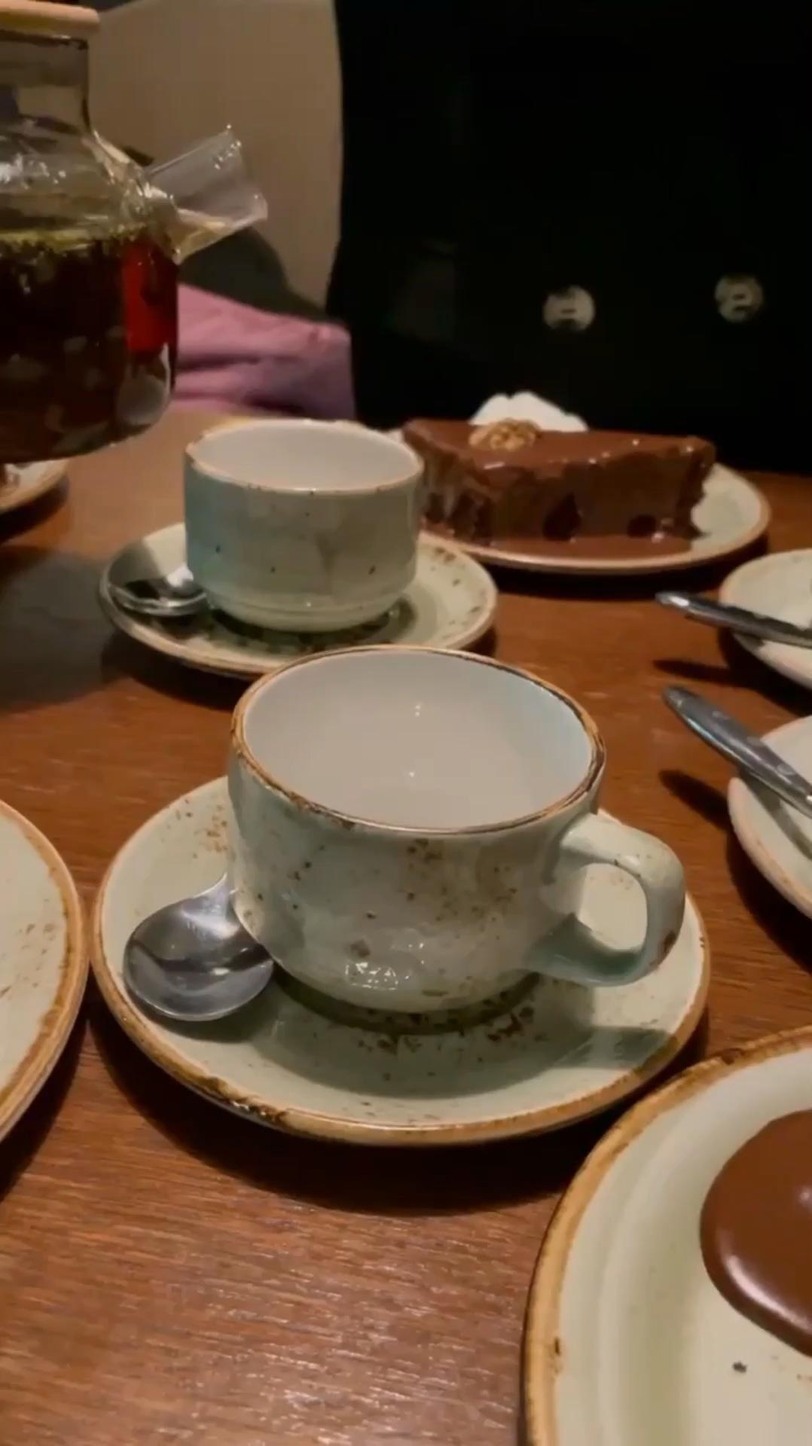cup-handle: (226, 642, 688, 1023), (179, 418, 427, 636)
